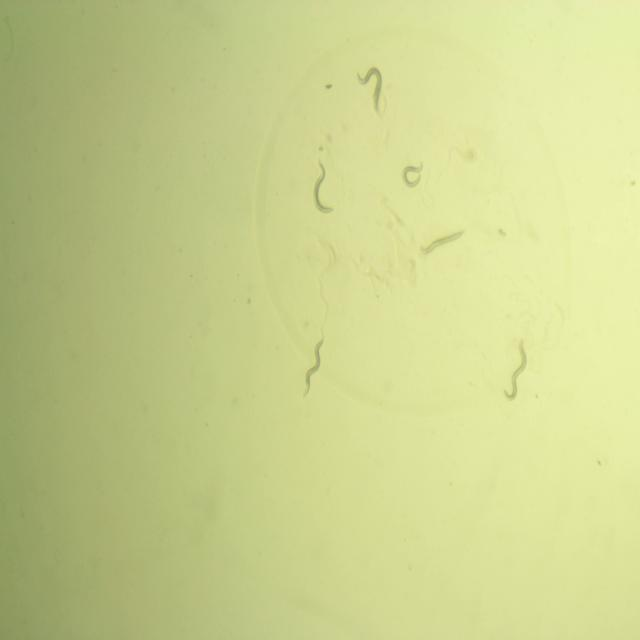worm: (416, 220, 468, 263), (298, 328, 328, 401), (501, 331, 529, 404), (310, 154, 338, 223), (354, 62, 387, 116), (398, 157, 428, 193)
